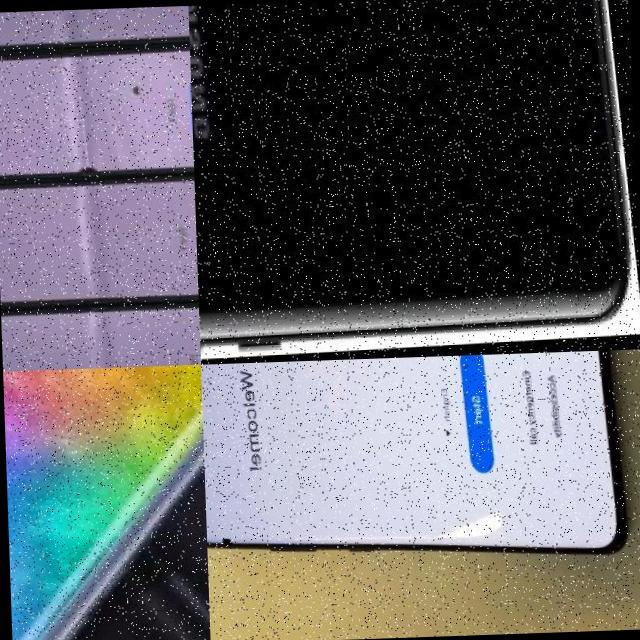dead pixel: (206, 506, 250, 574), (66, 154, 112, 185), (116, 83, 162, 103)
